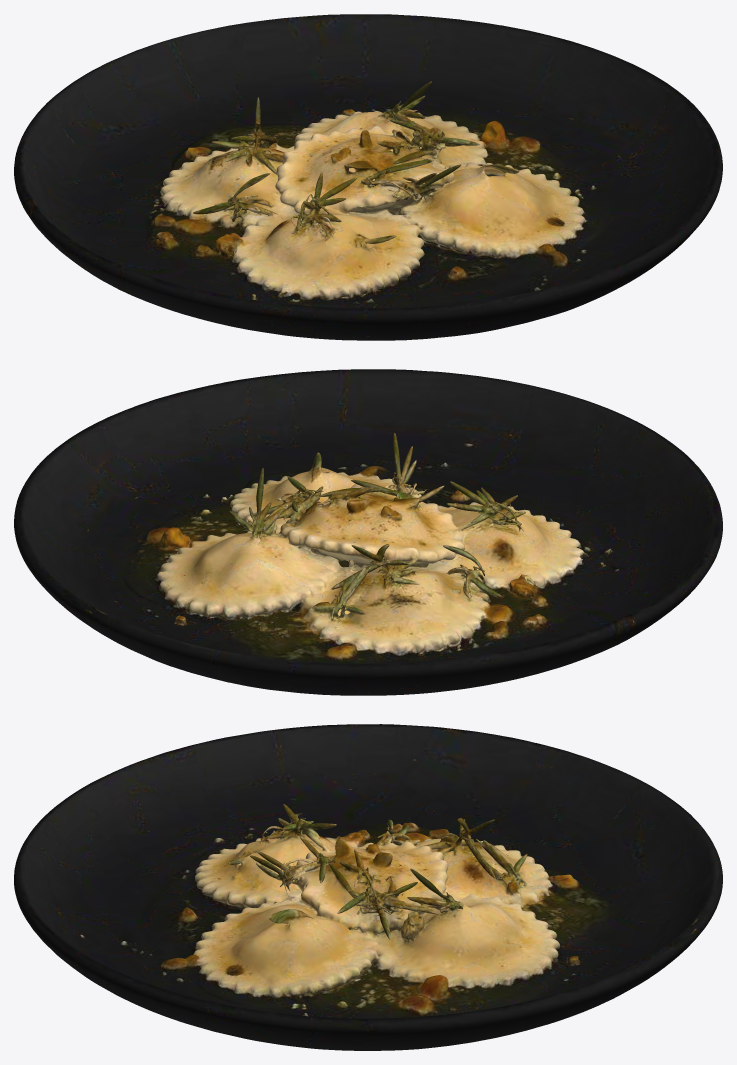
File: ravioles-chevre-miel-ar-lite-meshy.glb
3 renders of one model, top to bottom at view 1: azimuth 30°, elevation 25°; view 2: azimuth 150°, elevation 25°; view 3: azimuth 270°, elevation 25°, orthographic.
Visible parts, largest first — view 1: node0; view 2: node0; view 3: node0.
Part boxes in pixels (x1,y1,x2,y2): node0: (14,14,722,340); node0: (14,369,722,695); node0: (14,724,722,1050).
Bounding box in the file's own units: 0.2 × 0.041 × 0.2.
Materials: 1 (1 with a texture image).
